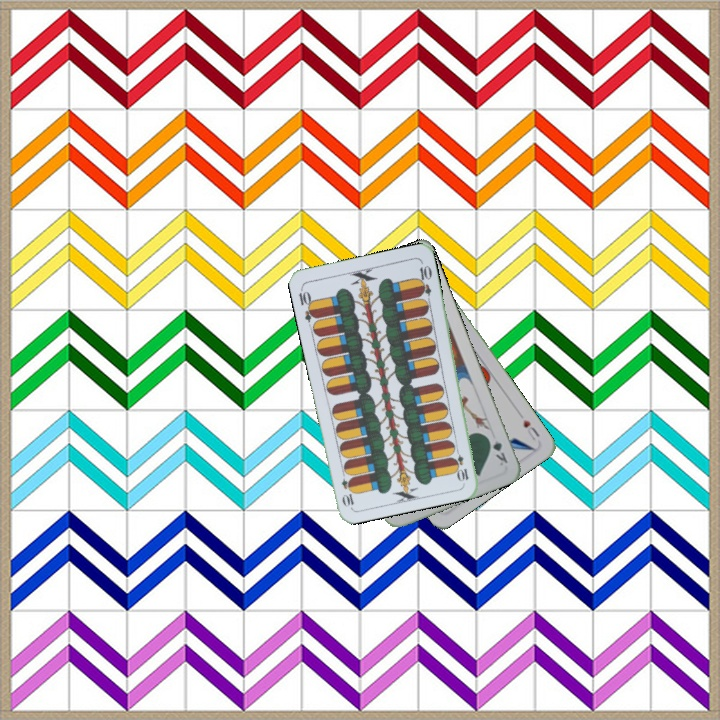E10: (295, 284, 319, 324), (451, 443, 471, 484)
GK: (483, 432, 510, 468)
HU: (519, 415, 542, 443)
